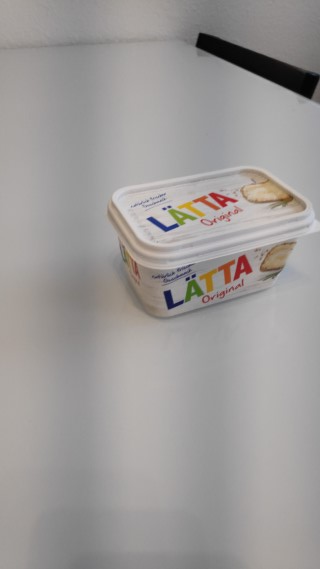laetta: (105, 164, 320, 319)
